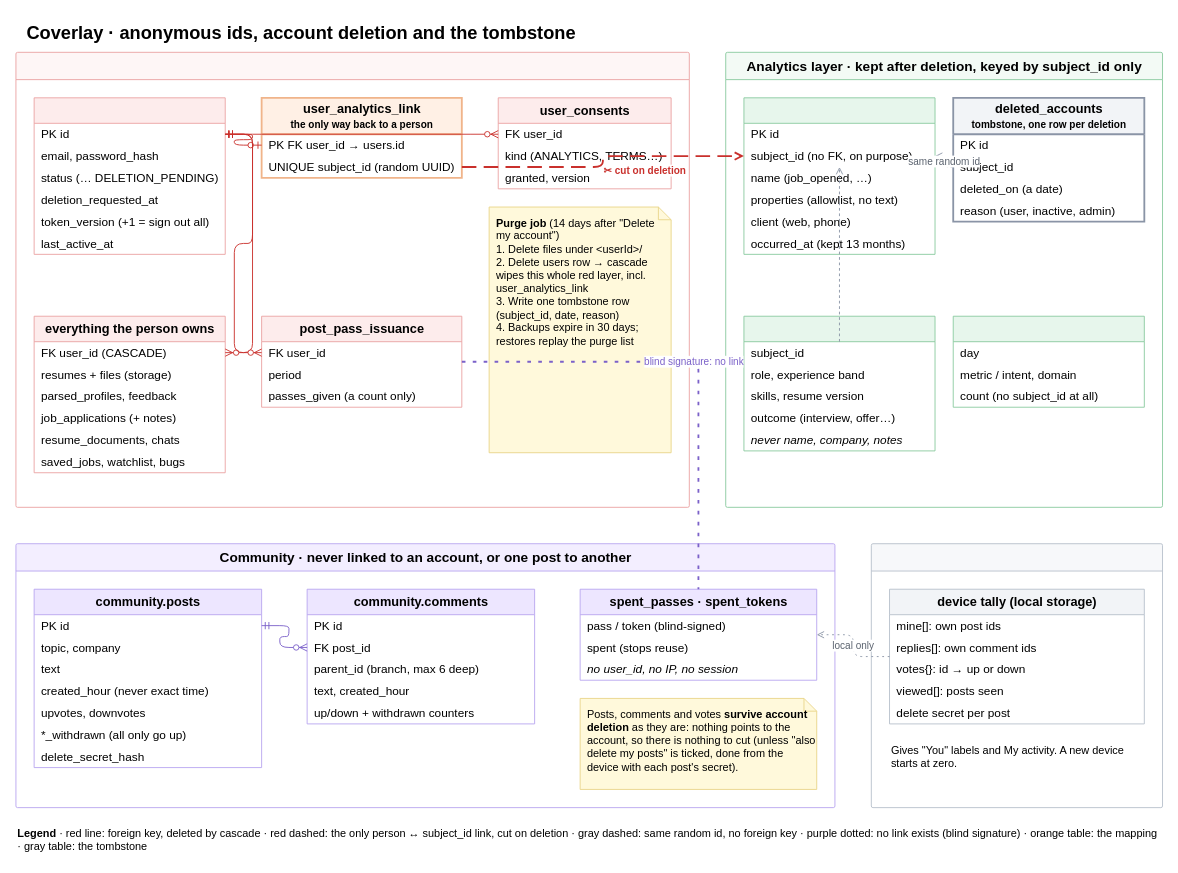
The diagram is 1178 pixels wide and 873 high, and some of its shapes have lost their labels. Here are the shapes that lost their labels. From the top down, the box of each, then its label:
(33, 97, 225, 254): users
(743, 97, 935, 254): analytics.events
(15, 51, 689, 507): Personal layer · deleted with the account (ON DELETE CASCADE)
(952, 315, 1144, 407): daily_metrics · prompt_stats
(743, 315, 935, 451): analytics.ai_samples
(870, 543, 1163, 808): The person's device · never sent
